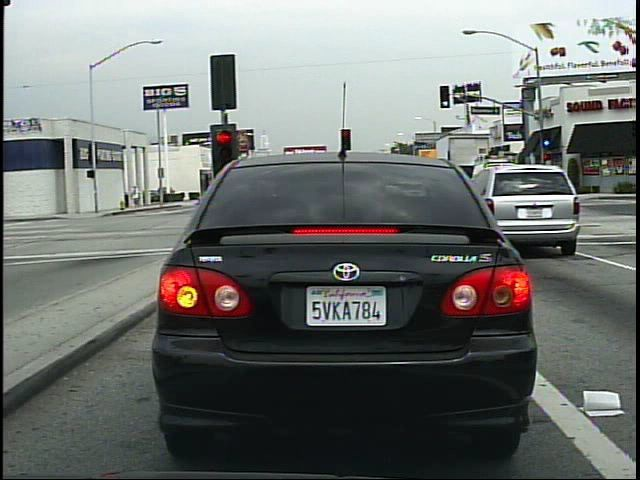person: (518, 169, 533, 202), (128, 182, 143, 211)
